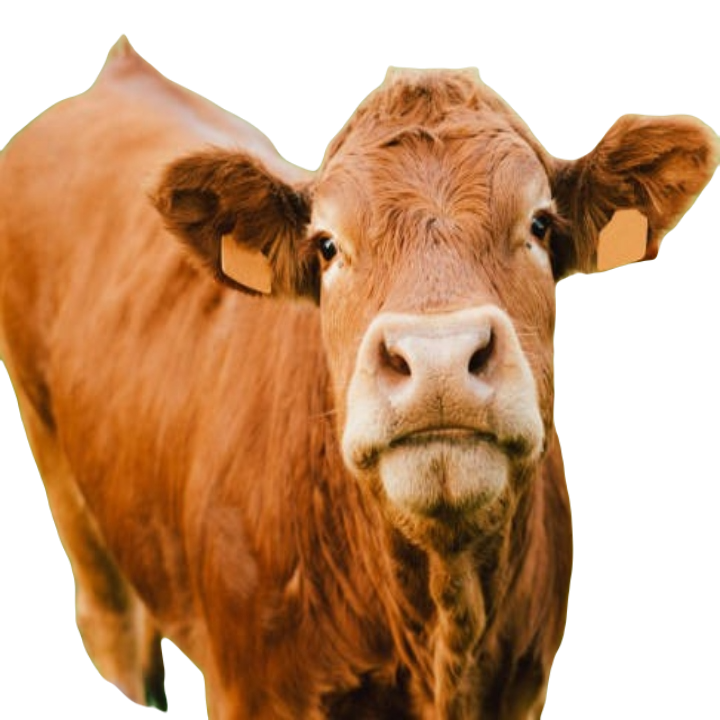Cow: (0, 34, 720, 717)
